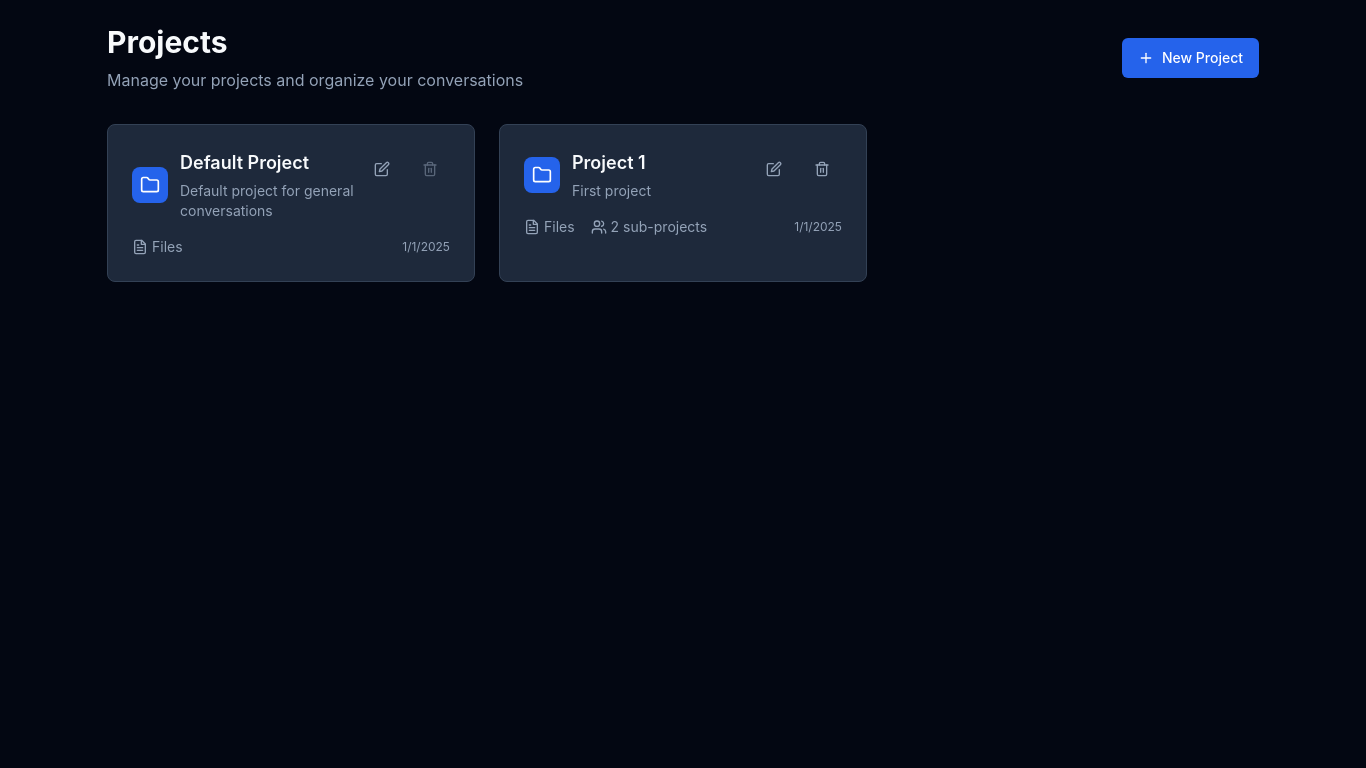
ProjectsPage Integration Tests › opens delete confirmation modal when delete button is clicked
Step 1. Click the button named "Delete Project 1" → {"x": 822, "y": 169}, box 802,149 -> 842,189
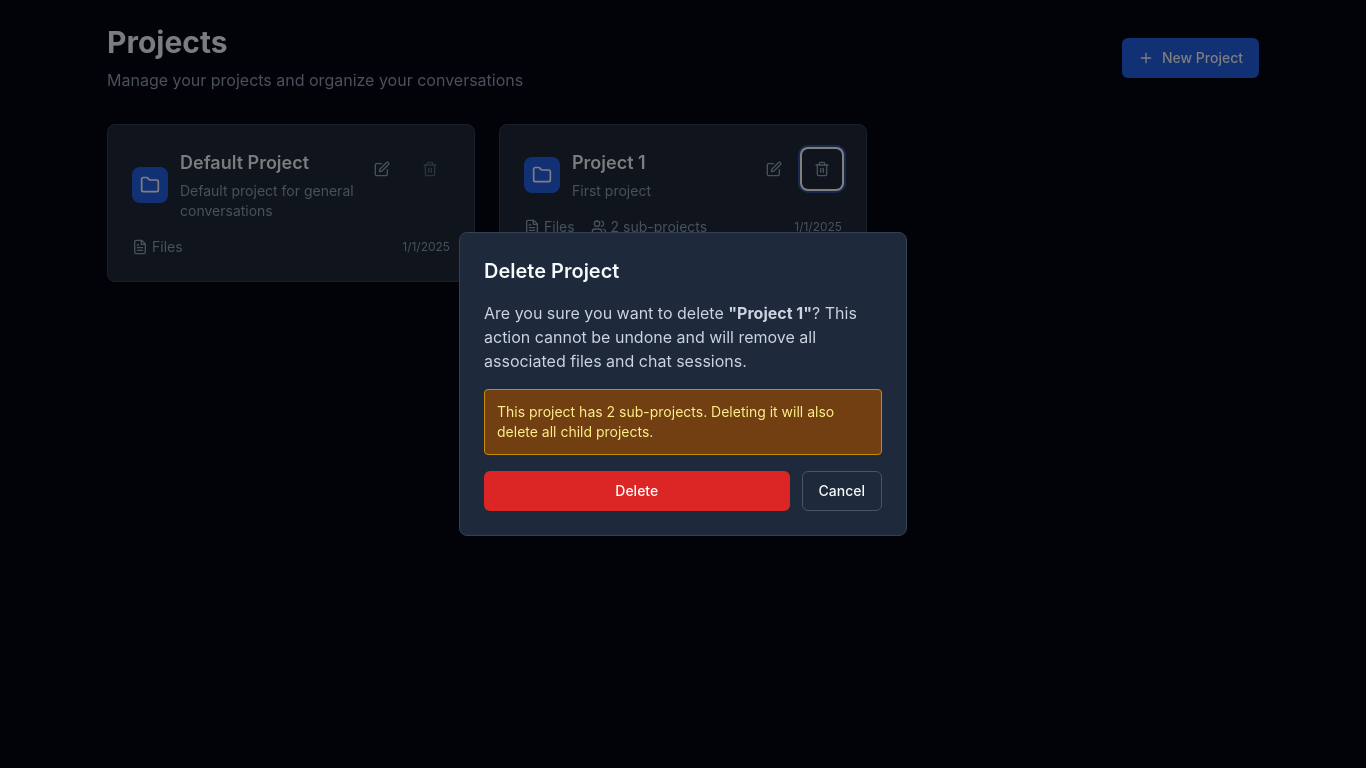
Check: the heading "Delete Project" is shown, box 484,259 -> 619,283
Check: the text "Are you sure you want to delete" is shown, box 484,303 -> 728,323
